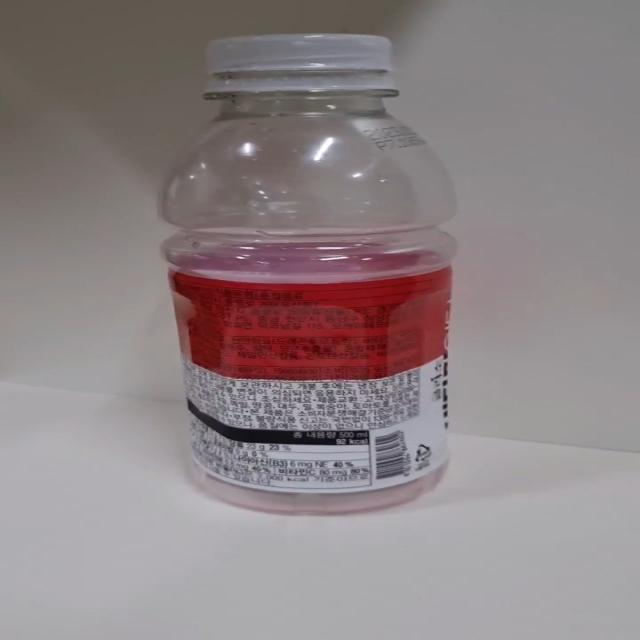Plastic: (157, 34, 459, 518)
